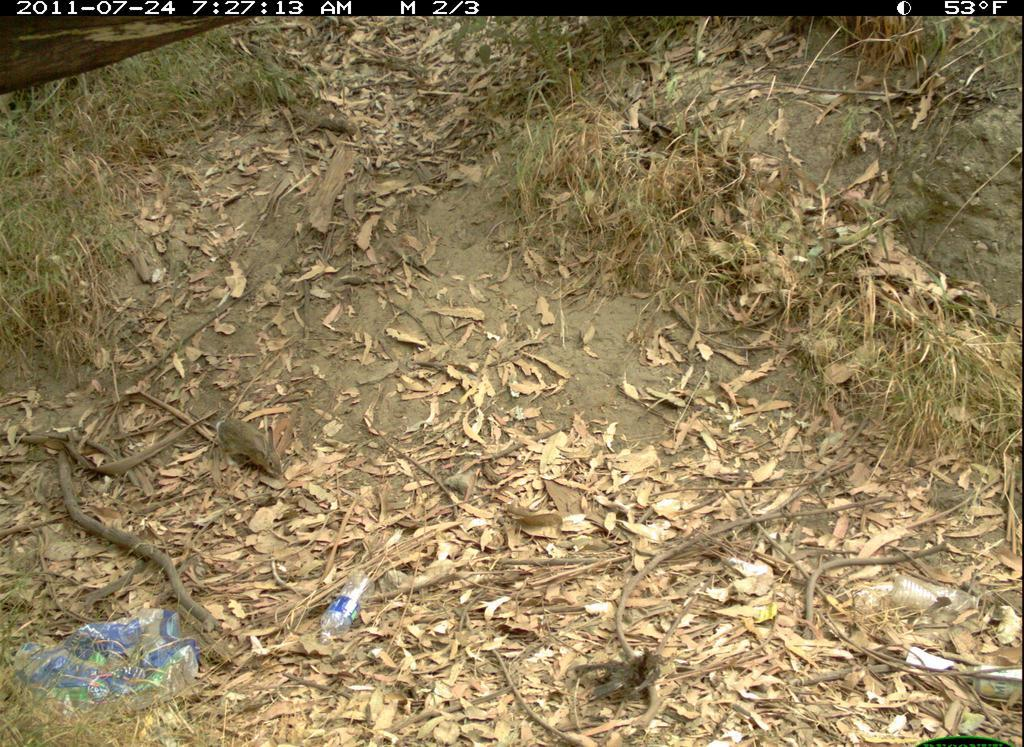rabbit: (211, 415, 286, 480)
